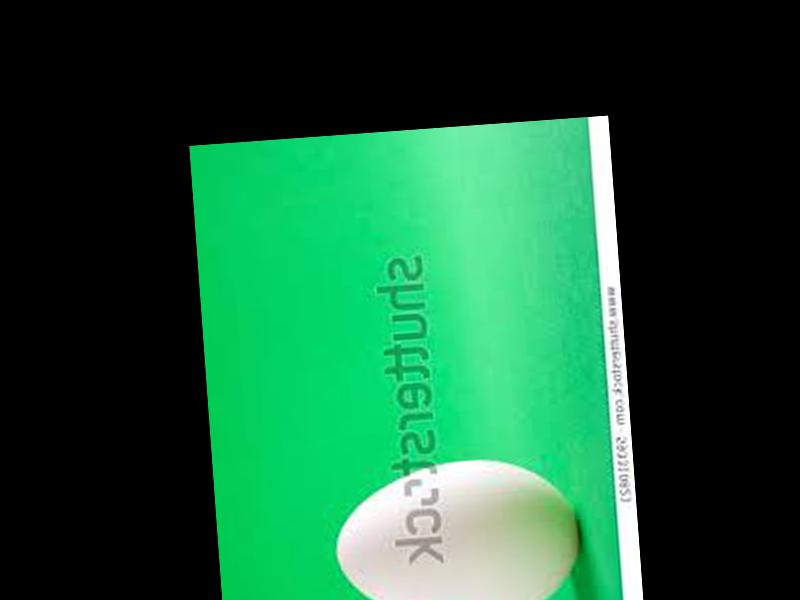Eggs: (331, 453, 588, 600)
